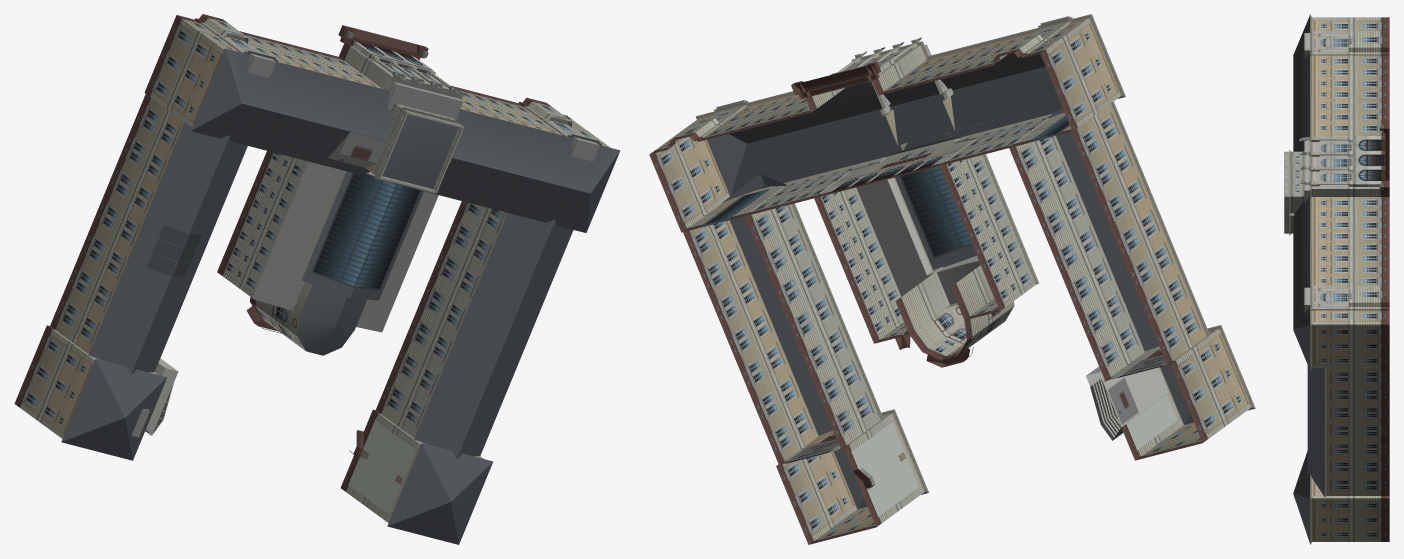
The model's file is DEU_CY0223_KARLSRUHE_MUSEUM_FUR_NATRKND_S.OBJ.
The picture shows the model from 3 angles, left to right: view 1: azimuth 30°, elevation 25°; view 2: azimuth 150°, elevation 25°; view 3: azimuth 270°, elevation 25°; orthographic projection. The views are drawn at different scales.
Parts seen in each view (by area): view 1: S; view 2: S; view 3: S.
Part boxes in pixels (bbox=[...]): S: bbox=[14, 14, 620, 544]; S: bbox=[649, 14, 1255, 544]; S: bbox=[1284, 14, 1389, 544].
Bounding box in the file's own units: 119 × 113 × 24.42.
1 material, 1 textured.
